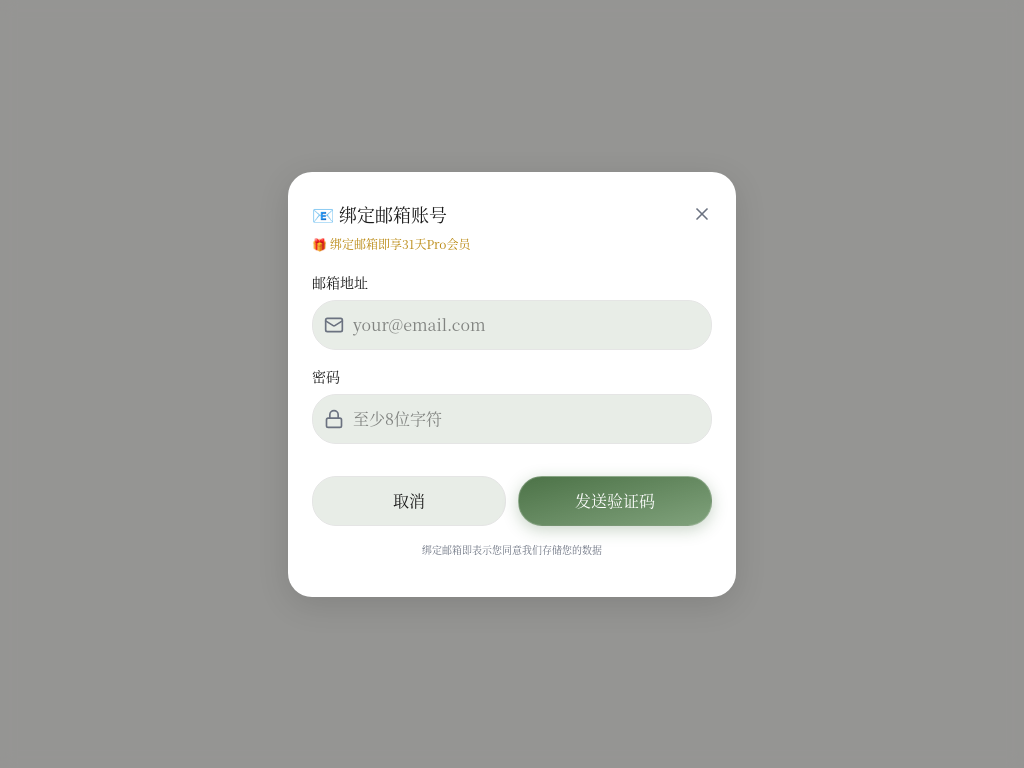
Test: AuthModal — 注册步骤 1：密码强度验证 › 弱密码（qwerty123）→ 显示「密码过于简单」
Type "test@test.com" into the field with placeholder "your@email.com" at [512, 324], box [312, 300, 712, 350]
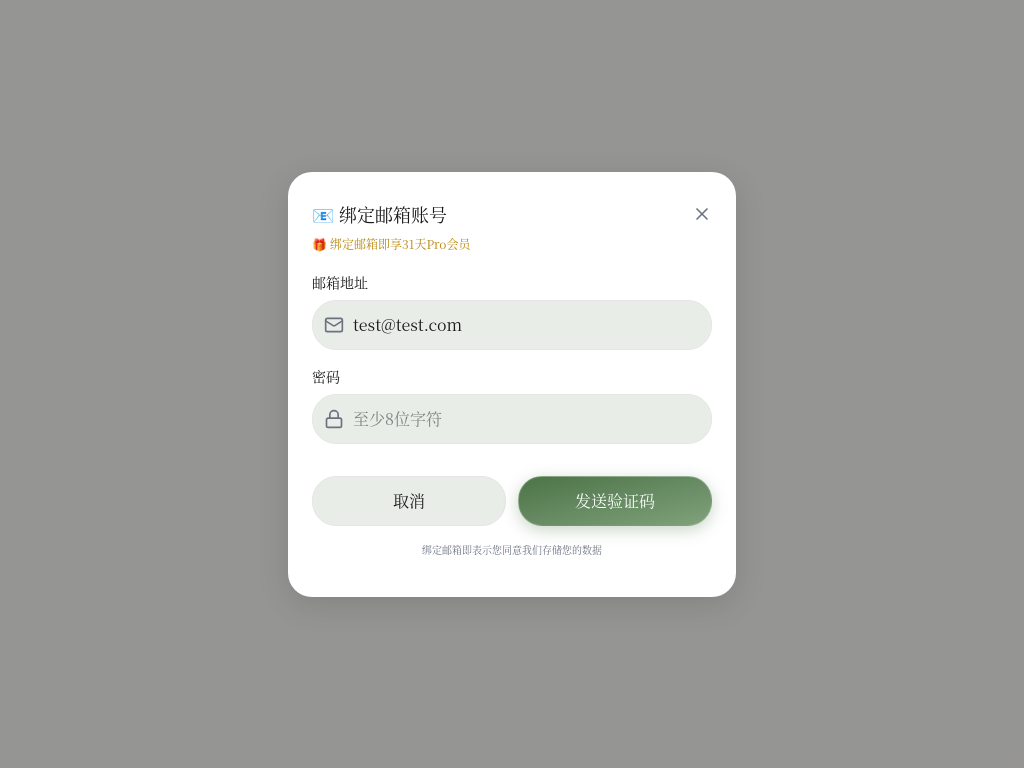
Type "qwerty123" into the password field with placeholder "至少8位字符" at [512, 418], box [312, 394, 712, 444]
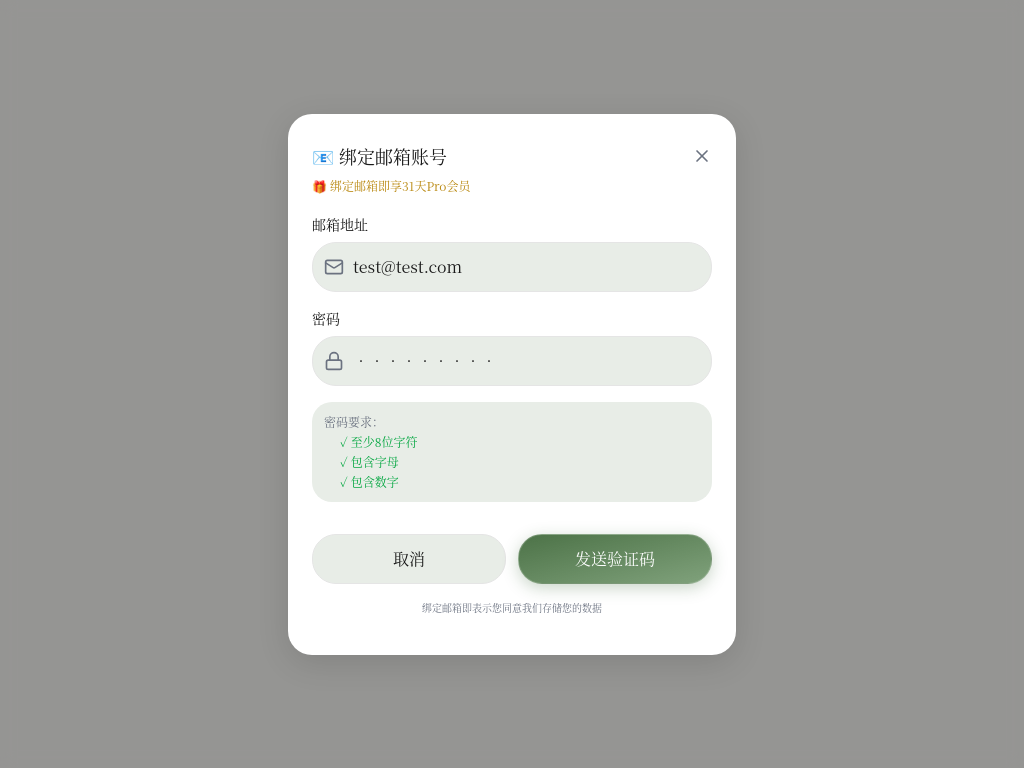
Click the button "发送验证码" at [615, 558], box [518, 534, 712, 584]
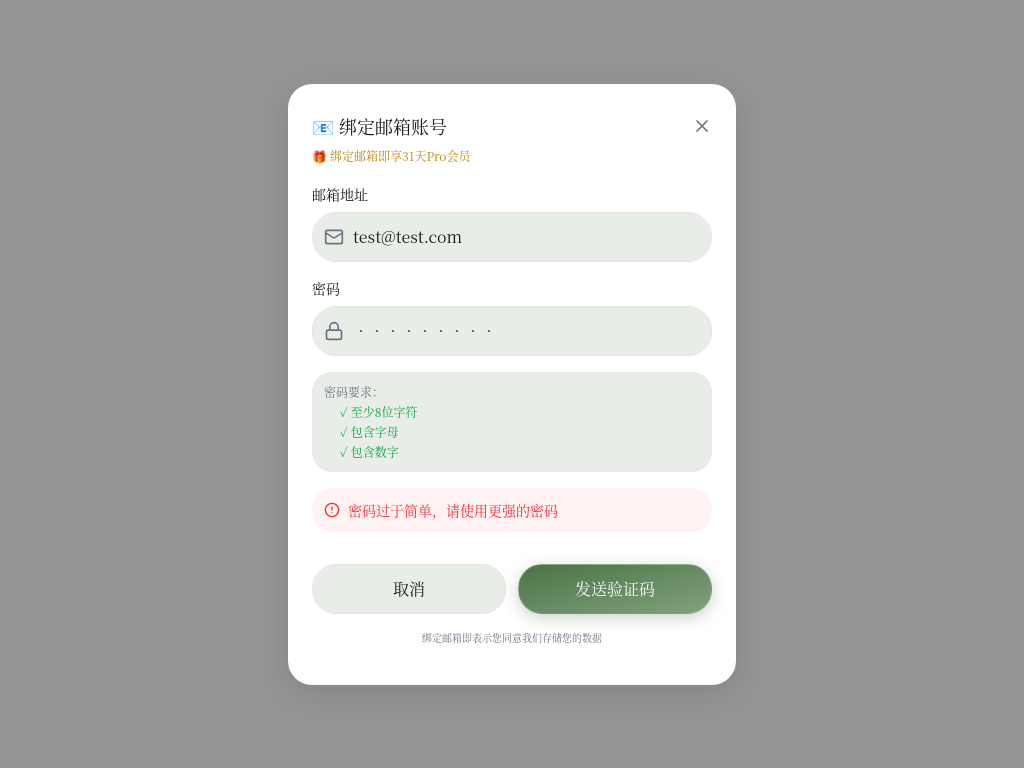
Now the text "密码过于简单，请使用更强的密码" is shown, box [312, 488, 712, 532]
